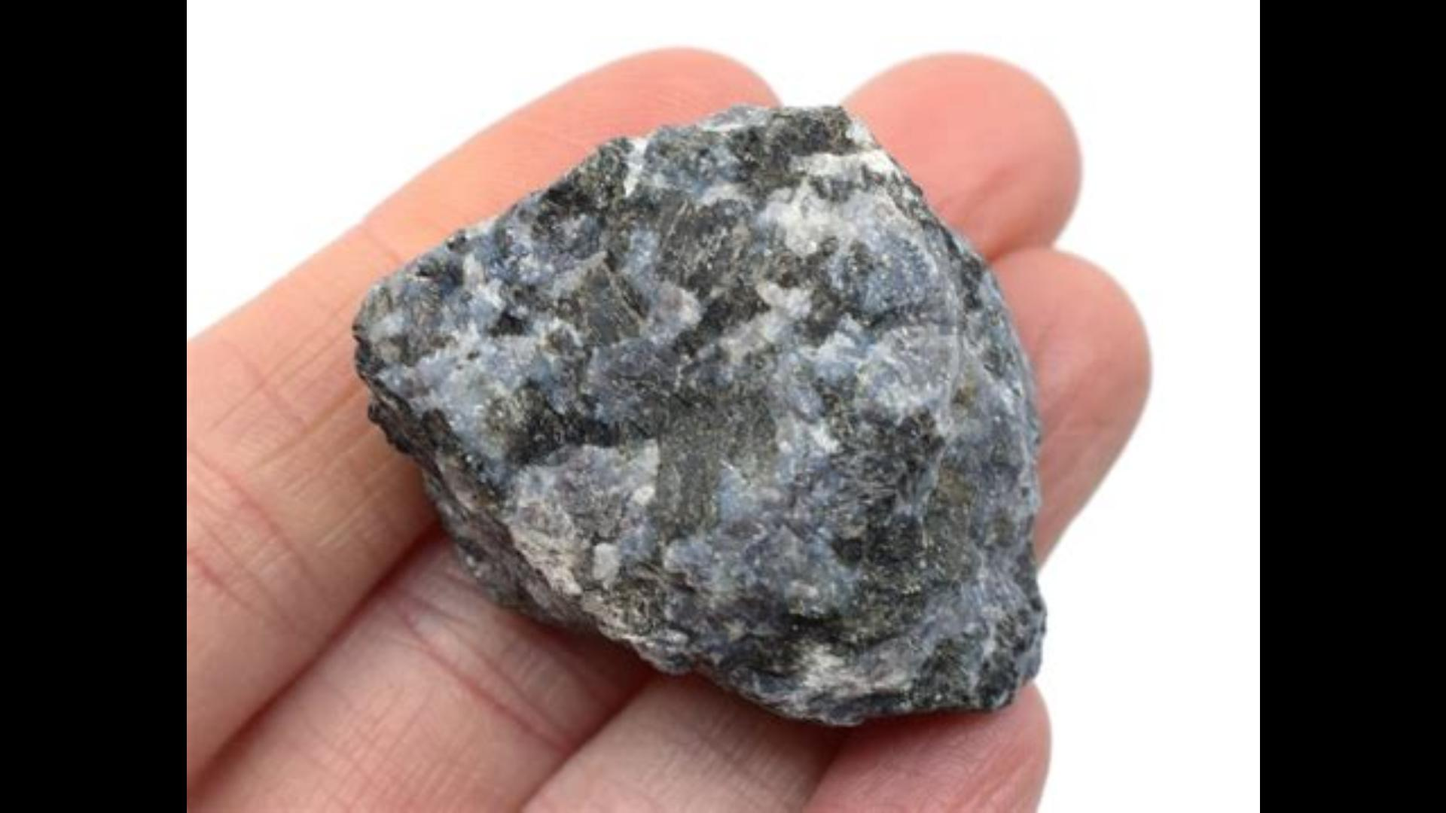rock: (354, 106, 1036, 722)
